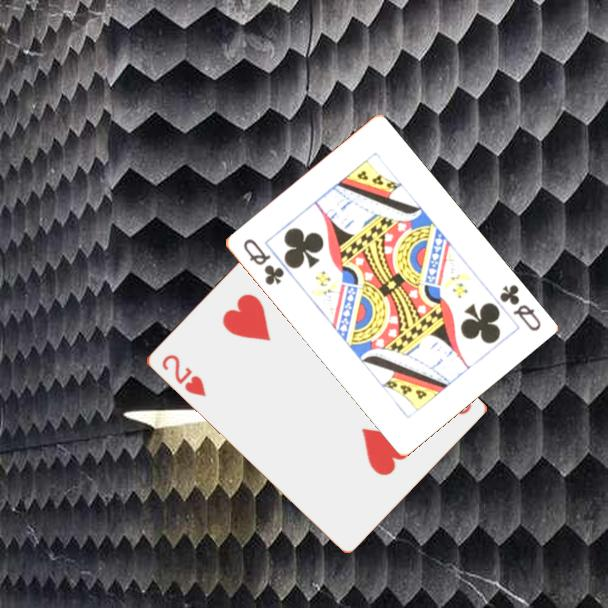c12: (239, 235, 287, 288), (496, 281, 544, 334)
h02: (158, 351, 209, 400)
